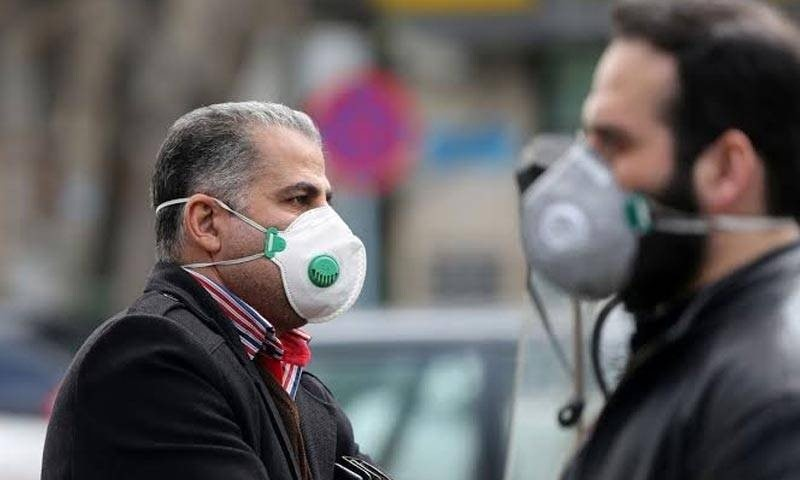face_with_mask: (514, 3, 800, 305), (156, 98, 373, 328)
